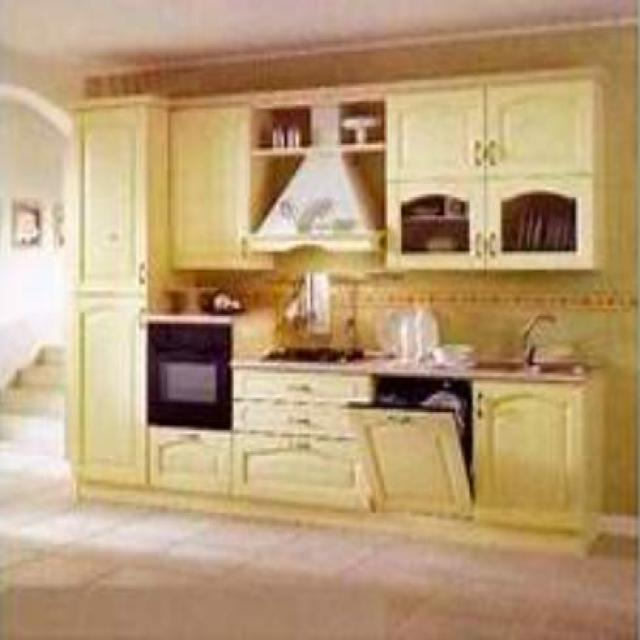dishwasher: (352, 373, 472, 516)
